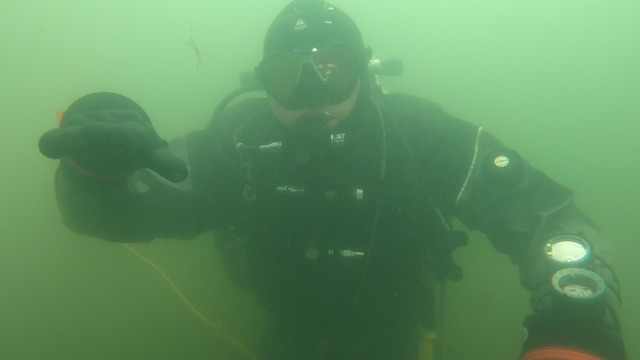Diver: (16, 3, 620, 352)
Hand: (28, 86, 196, 214)
Head: (229, 6, 391, 172)
